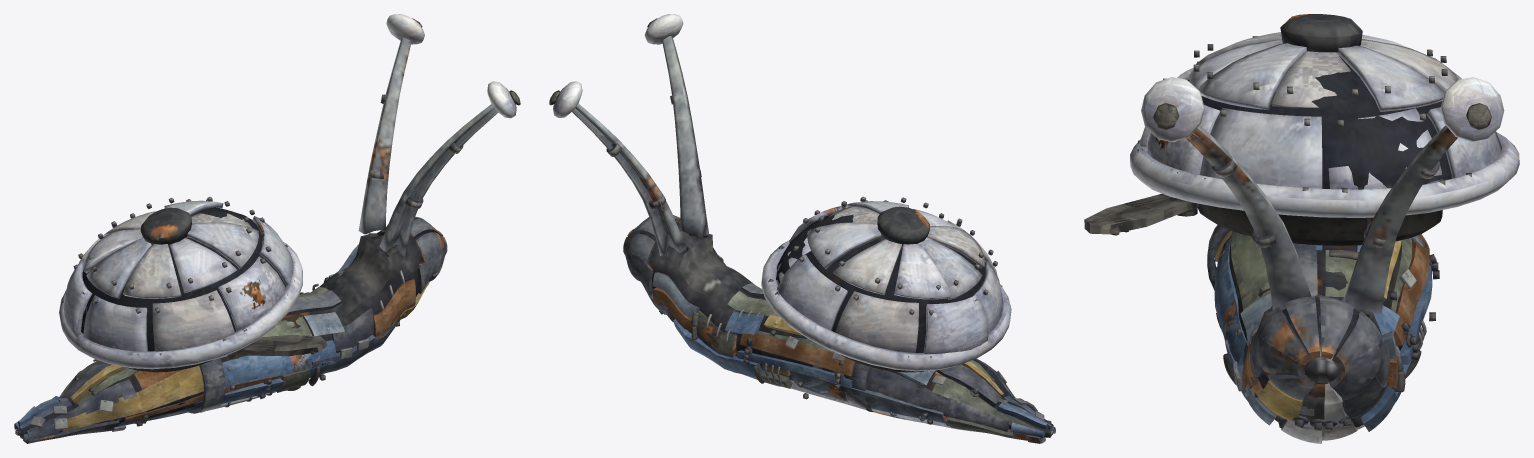
The picture shows the model from 3 angles, left to right: view 1: azimuth 30°, elevation 25°; view 2: azimuth 150°, elevation 25°; view 3: azimuth 270°, elevation 25°; orthographic projection. The views are drawn at different scales.
Visible parts, largest first — view 1: BellSteel, BellChrome, BellNickel, Stalks, Body, PanelsGUNMETAL, BellRim, BellPressing, PanelsPAINTED, PanelsBRASS, PanelsBLUEGREY, PanelsRUST (+6 smaller); view 2: BellSteel, BellNickel, Stalks, PanelsGUNMETAL, Body, BellChrome, BellRim, BellPressing, PanelsOLIVE, PanelsPAINTED, PanelsBLUEGREY, PanelsRUST (+6 smaller); view 3: BellSteel, BellPressing, PanelsGUNMETAL, Stalks, BellRim, Eyes, BellNickel, BellChrome, PanelsPAINTED, BellHousing, PanelsOLIVE, Body (+13 smaller).
Part boxes in pixels (box(x1,y1,x2,y2)): BellSteel: box(83, 200, 293, 351); BellChrome: box(63, 229, 285, 337); BellNickel: box(79, 211, 251, 351); Stalks: box(358, 37, 498, 255); Body: box(20, 228, 427, 438); PanelsGUNMETAL: box(26, 216, 447, 443); BellRim: box(59, 242, 302, 369); BellPressing: box(81, 207, 285, 351); PanelsPAINTED: box(14, 292, 336, 429); PanelsBRASS: box(62, 281, 429, 432); PanelsBLUEGREY: box(19, 244, 398, 441); PanelsRUST: box(124, 279, 415, 422); BellSteel: box(776, 201, 1003, 334); BellNickel: box(829, 206, 997, 352); Stalks: box(572, 36, 709, 256); PanelsGUNMETAL: box(623, 215, 1053, 437); Body: box(639, 223, 1049, 437); BellChrome: box(776, 209, 988, 353); BellRim: box(761, 240, 1011, 371); BellPressing: box(776, 206, 985, 352); PanelsOLIVE: box(696, 291, 1040, 440); PanelsPAINTED: box(673, 311, 1047, 437); PanelsBLUEGREY: box(652, 272, 1055, 433); PanelsRUST: box(653, 255, 855, 376); BellSteel: box(1198, 43, 1501, 188); BellPressing: box(1188, 14, 1451, 189); PanelsGUNMETAL: box(1243, 243, 1389, 418); Stalks: box(1186, 125, 1457, 314); BellRim: box(1130, 132, 1519, 217); Eyes: box(1141, 77, 1504, 142); BellNickel: box(1140, 32, 1461, 147); BellChrome: box(1146, 35, 1442, 189); PanelsPAINTED: box(1214, 237, 1432, 431); BellHousing: box(1197, 203, 1442, 245); PanelsOLIVE: box(1231, 231, 1412, 387); Body: box(1222, 235, 1403, 421).
Bounding box in the file's own units: 3.64 × 2.25 × 1.95.
Materials: 31 (31 with a texture image).
